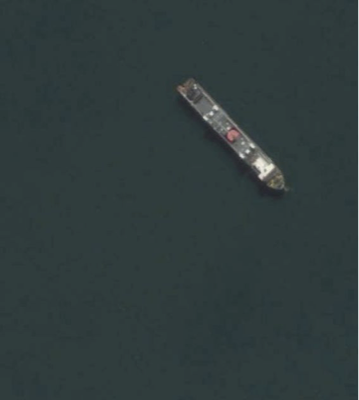boat: (176, 77, 290, 196)
